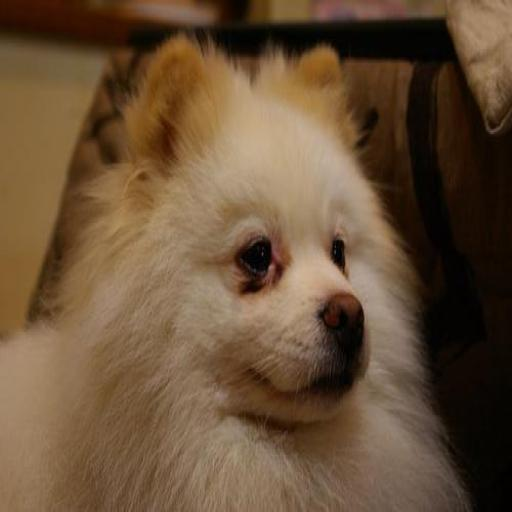dog_face: (137, 48, 371, 421)
